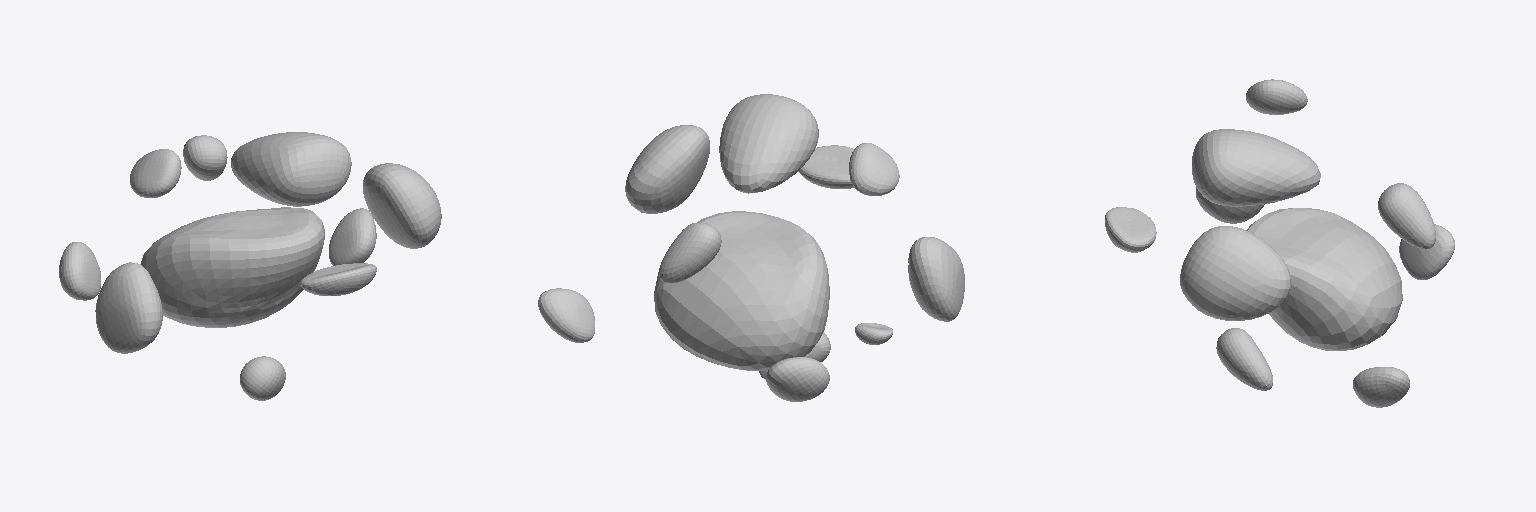
The model's file is turbulence.obj.
3 renders of one model, left to right at view 1: azimuth 30°, elevation 25°; view 2: azimuth 150°, elevation 25°; view 3: azimuth 270°, elevation 25°, orthographic.
Bounding box in the file's own units: 16.71 × 12.29 × 14.8.